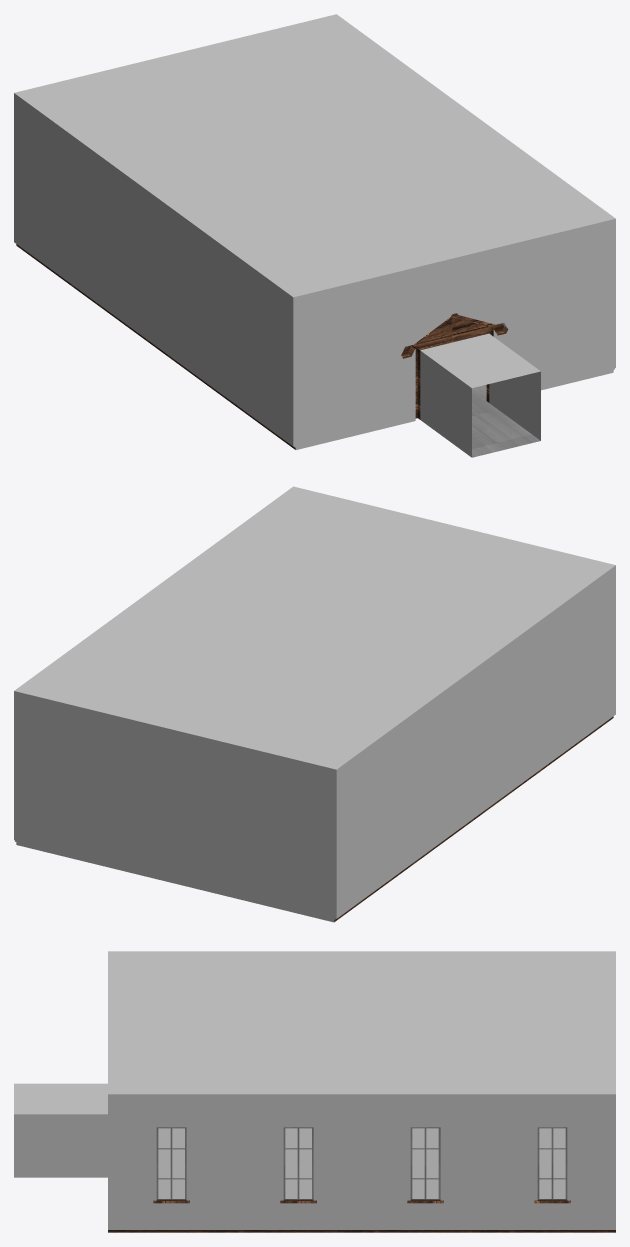
The model's file is Room.fbx.
3 renders of one model, top to bottom at view 1: azimuth 30°, elevation 25°; view 2: azimuth 150°, elevation 25°; view 3: azimuth 270°, elevation 25°, orthographic. The views are drawn at different scales.
Parts seen in each view (by area): view 1: Room; view 2: Room; view 3: Room.
Boxes of the visible parts, box(x1,y1,x2,y2) form: Room: box(14, 14, 615, 457); Room: box(14, 486, 615, 922); Room: box(14, 951, 615, 1232).
Bounding box in the file's own units: 10 × 4.55 × 17.78.
